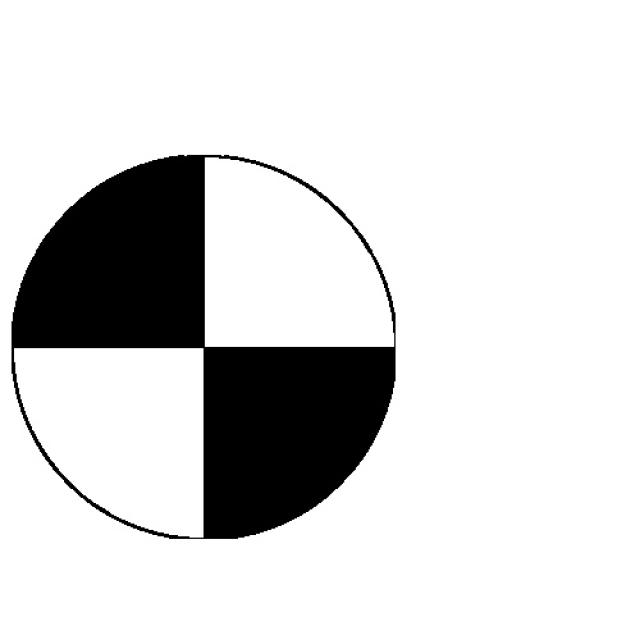Marcadores: (10, 155, 396, 539)
